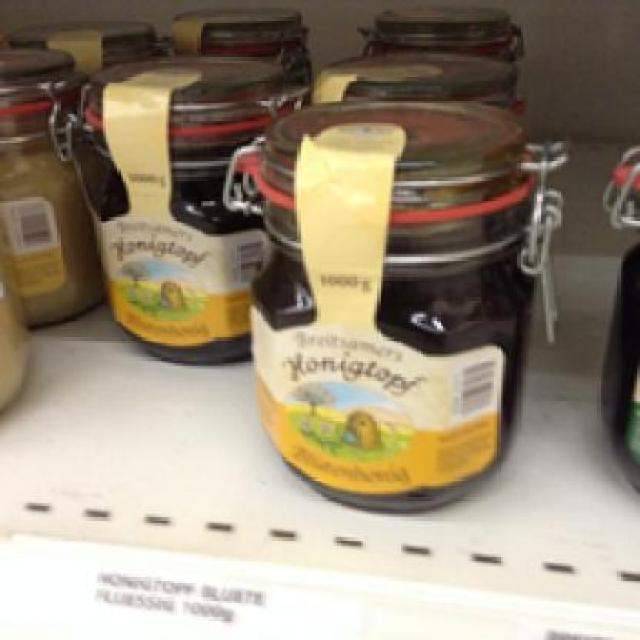Honey: (209, 99, 580, 515), (57, 54, 300, 374)
